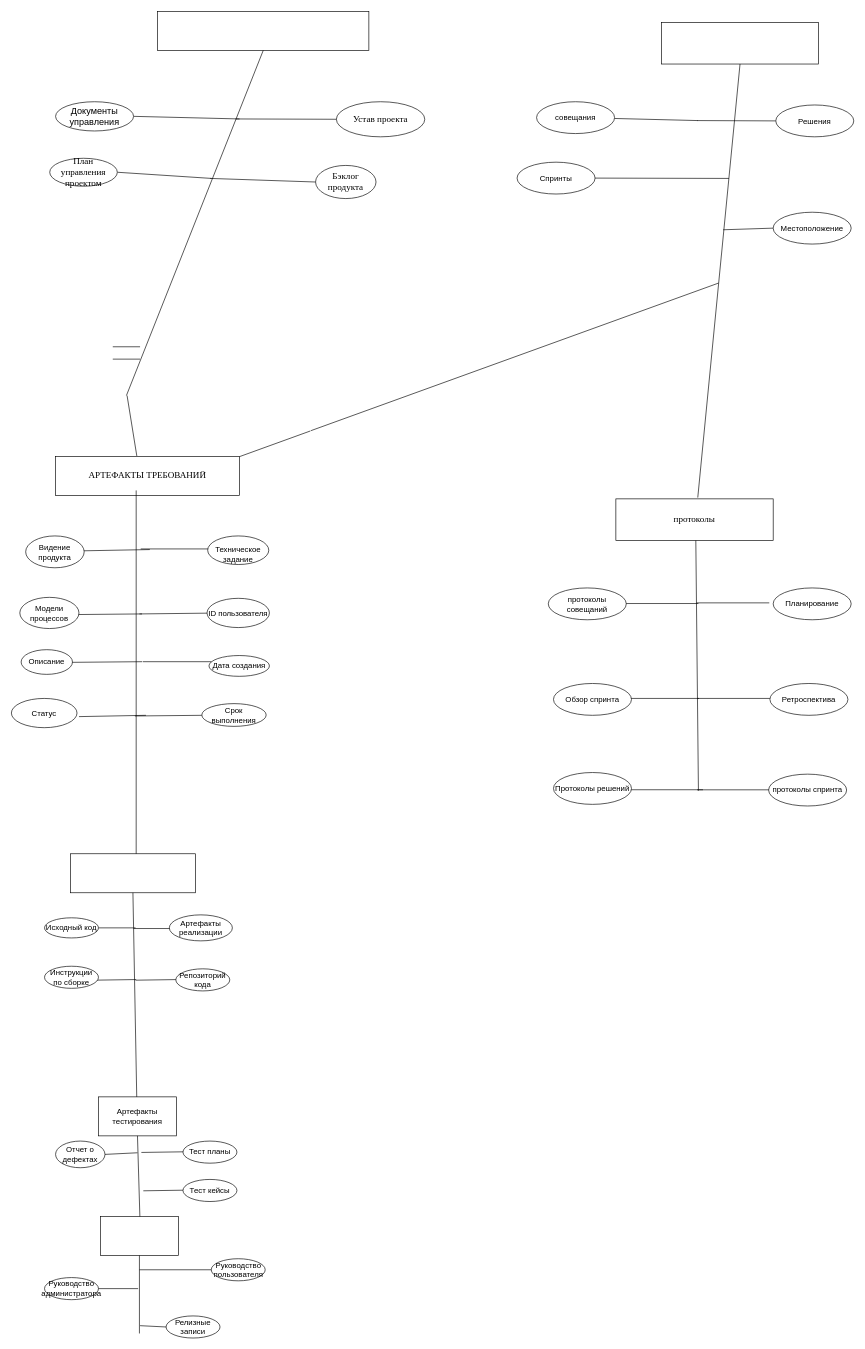
Image size: 865x1349. Some labels were removed from this diagram. Here are the shapes that lost their labels. From the top down, the centre of each, then its label:
(x=263, y=30): АРТЕФАКТЫ
(x=740, y=43): ИНДЕФИТИКАЦИЯ НЕОБХОДИМЫХ ПРОТОКОЛОВ
(x=132, y=873): МОДЕЛЬ ДАННЫХ
(x=139, y=1235): ЭКСПЛАТУЦИОННЫЕ АРТЕФАКТЫ
